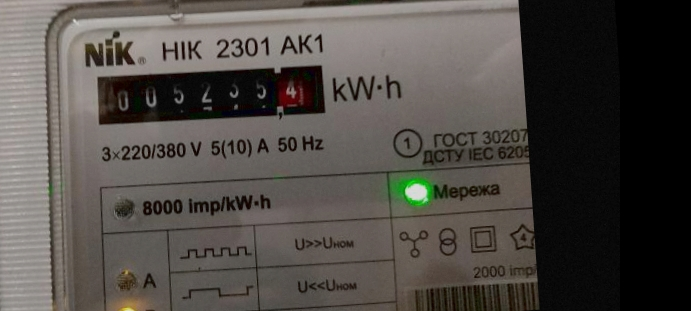0: (114, 86, 132, 113), (143, 83, 158, 108)
2: (197, 78, 213, 104)
3: (225, 74, 241, 100)
4: (282, 74, 299, 101)
5: (252, 73, 269, 101), (169, 80, 186, 107)
screen: (85, 51, 338, 137)
